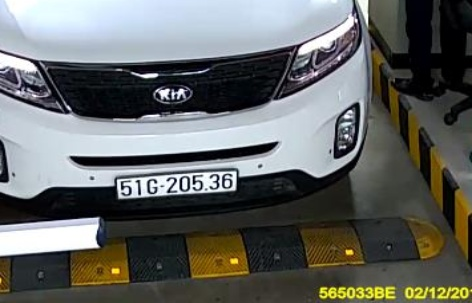plate: (110, 174, 240, 195)
